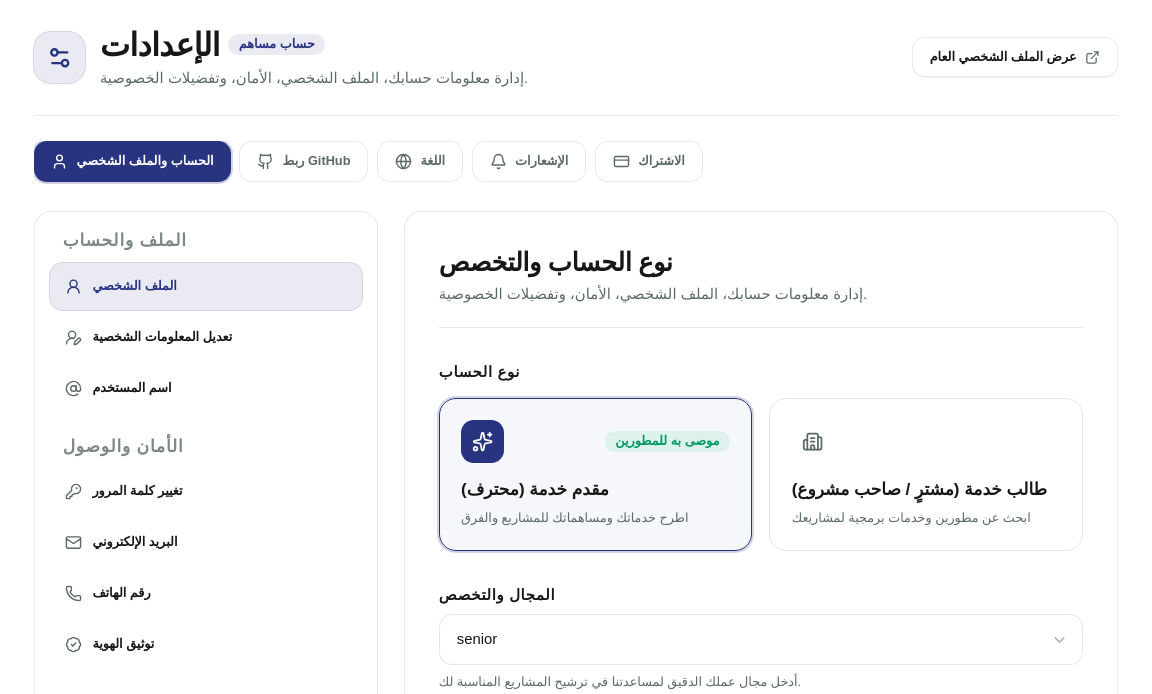
Test: PersonalInformationSettingsPage › switches to the phone sub-tab and renders the phone settings form
The image size is (1152, 694).
Step 1. Click the button "رقم الهاتف" → click(121, 593), box left=50, top=570, right=362, bottom=617
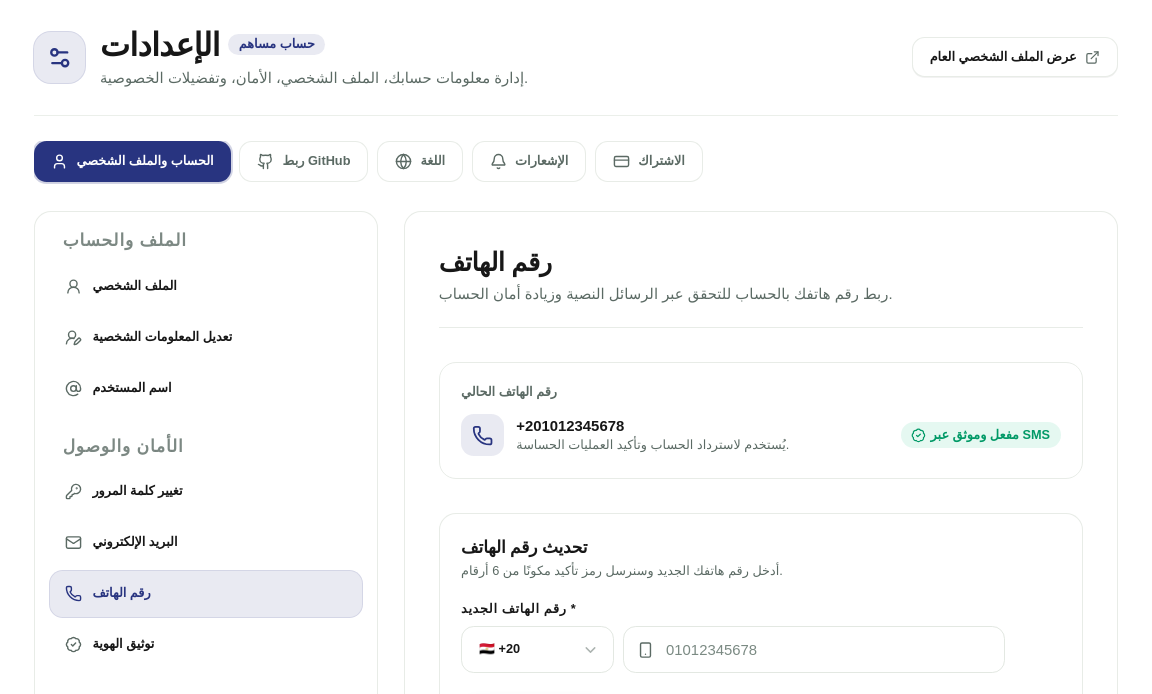
Expected: the text "+201012345678" is shown, left=516, top=418, right=624, bottom=434
Expected: the field labelled "رقم الهاتف الجديد *" is shown, left=623, top=626, right=1005, bottom=673
